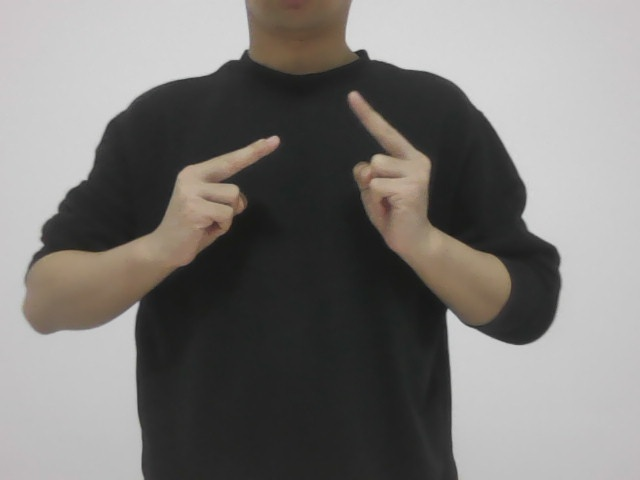know: (164, 96, 444, 282)
